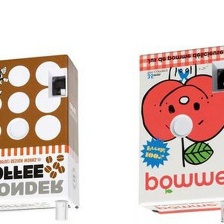carton: (132, 44, 223, 218), (0, 53, 93, 218)
